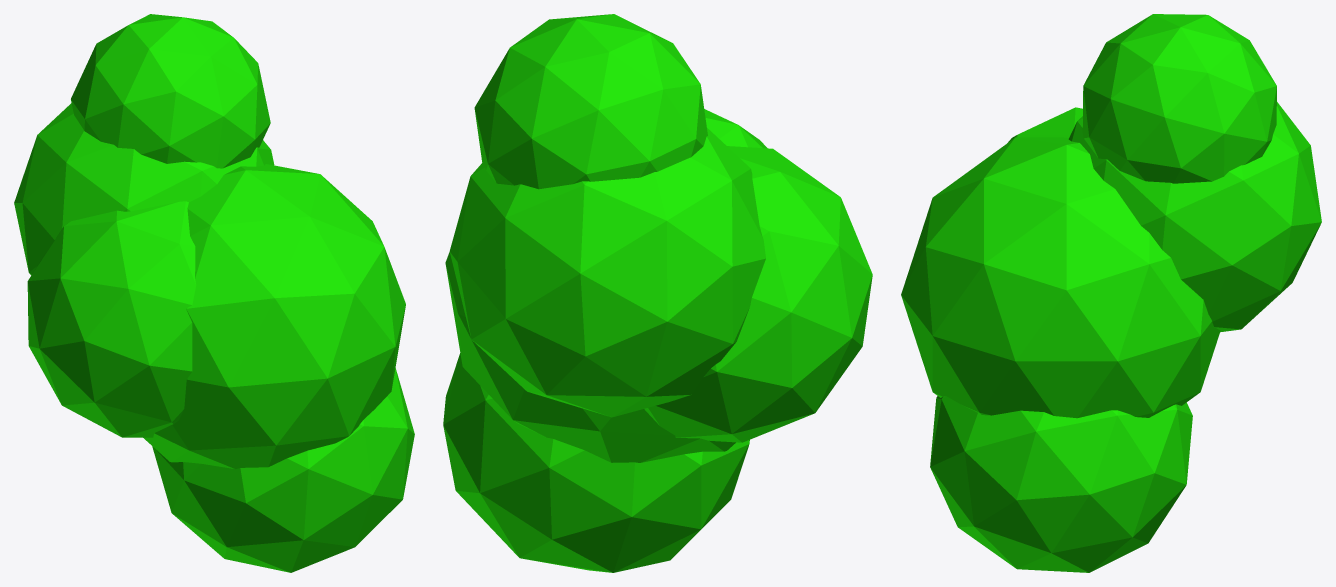
Rendered from bush 11.fbx.
3 renders of one model, left to right at view 1: azimuth 30°, elevation 25°; view 2: azimuth 150°, elevation 25°; view 3: azimuth 270°, elevation 25°, orthographic. The views are drawn at different scales.
Visible parts, largest first — view 1: Icosphere.011; view 2: Icosphere.011; view 3: Icosphere.011.
Boxes of the visible parts, x1,y1,x2,y2 form: Icosphere.011: (14, 14, 414, 572); Icosphere.011: (443, 14, 872, 572); Icosphere.011: (901, 14, 1321, 572).
Size of the model in its own units: 241 by 344 by 254.
